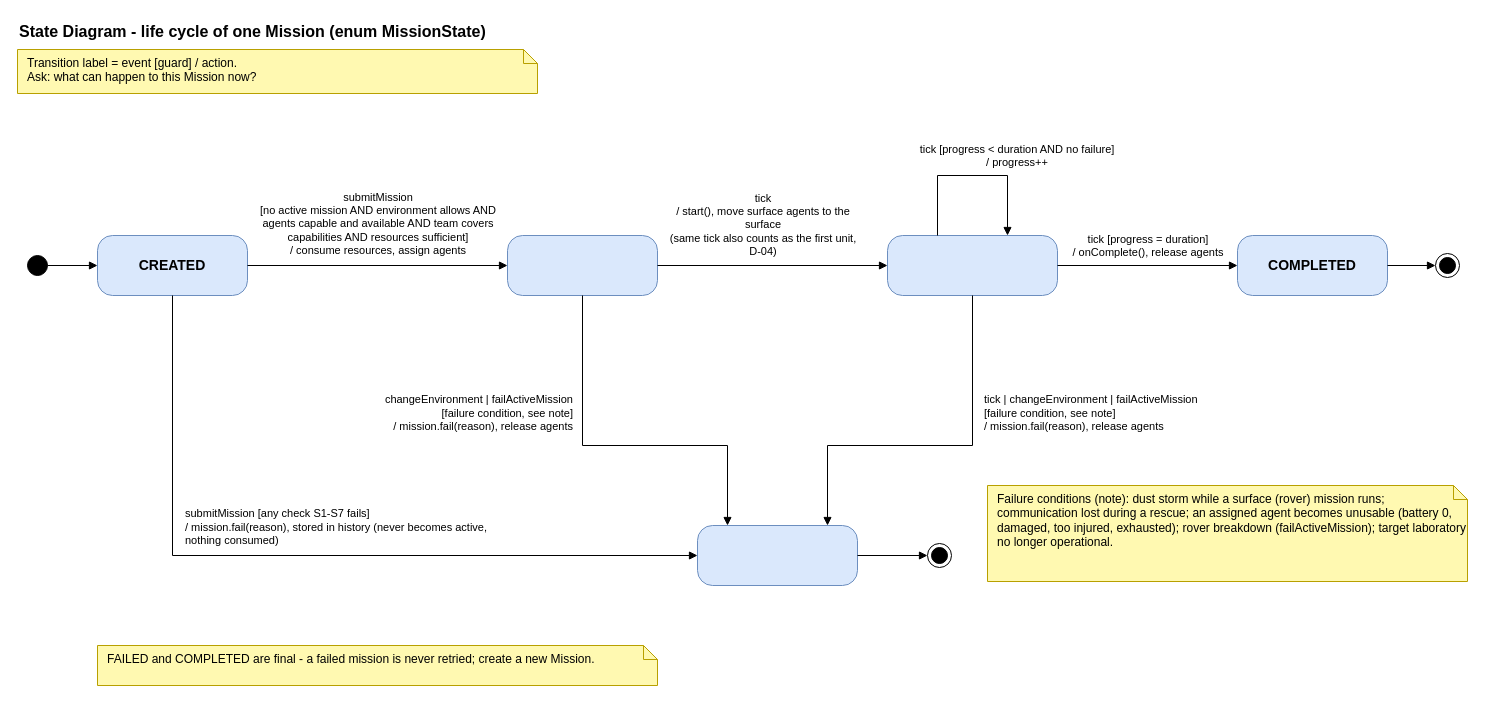
This 1485x703 diagram has some shape labels left out. Each missing label, with the centre of its shape:
ASSIGNED: (582,265)
FAILED: (777,555)
IN_PROGRESS: (972,265)
